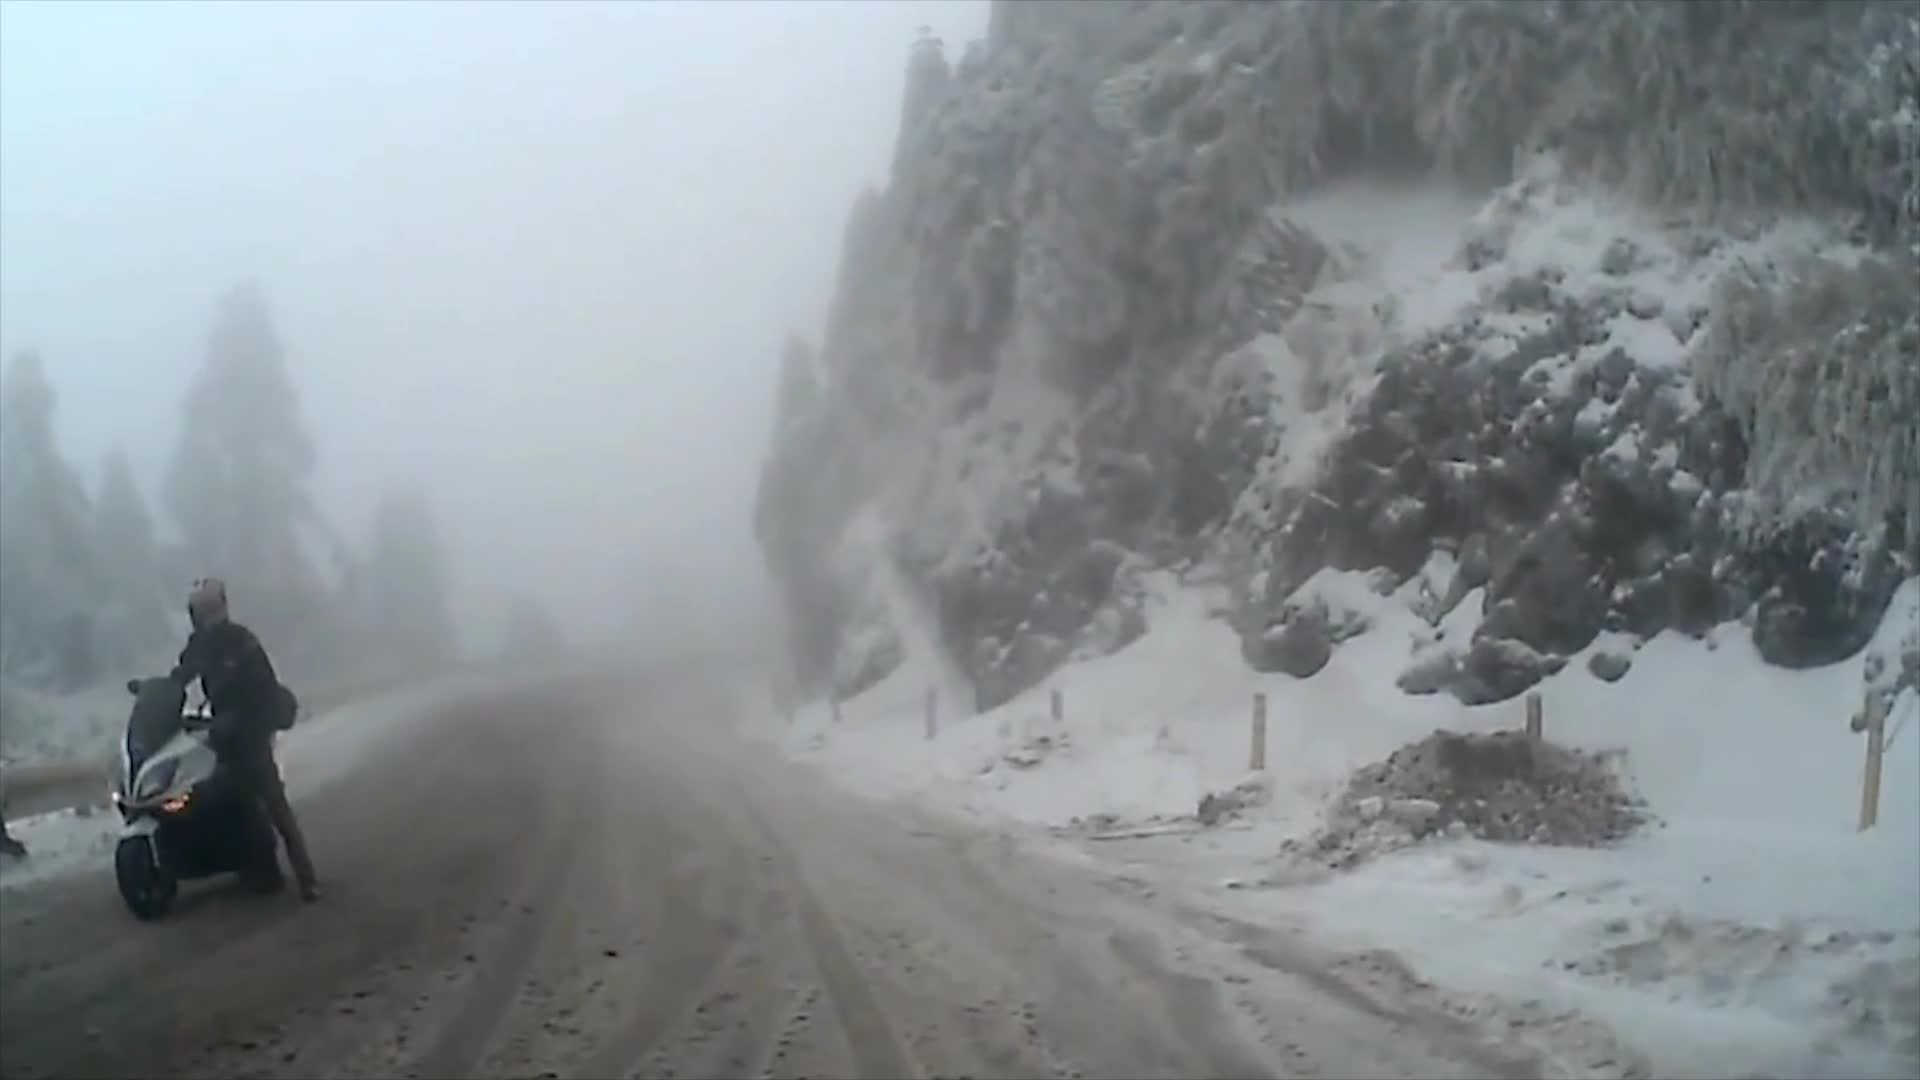pedestrian: (133, 570, 317, 910)
